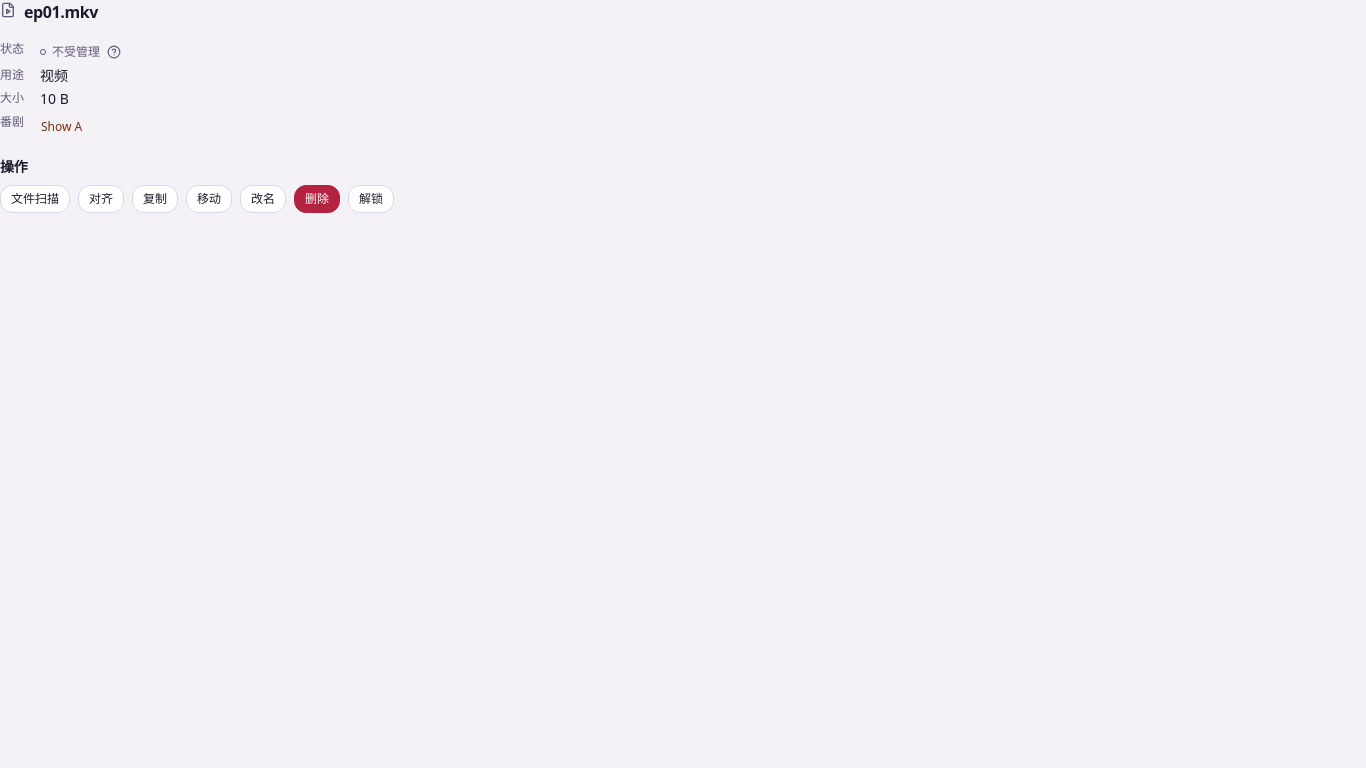
Test: move, rename and copy › shows the choice when the server reports the target as taken after the check
Click the button "移动" at (209, 198), box top-left (186, 184), bottom-right (232, 212)
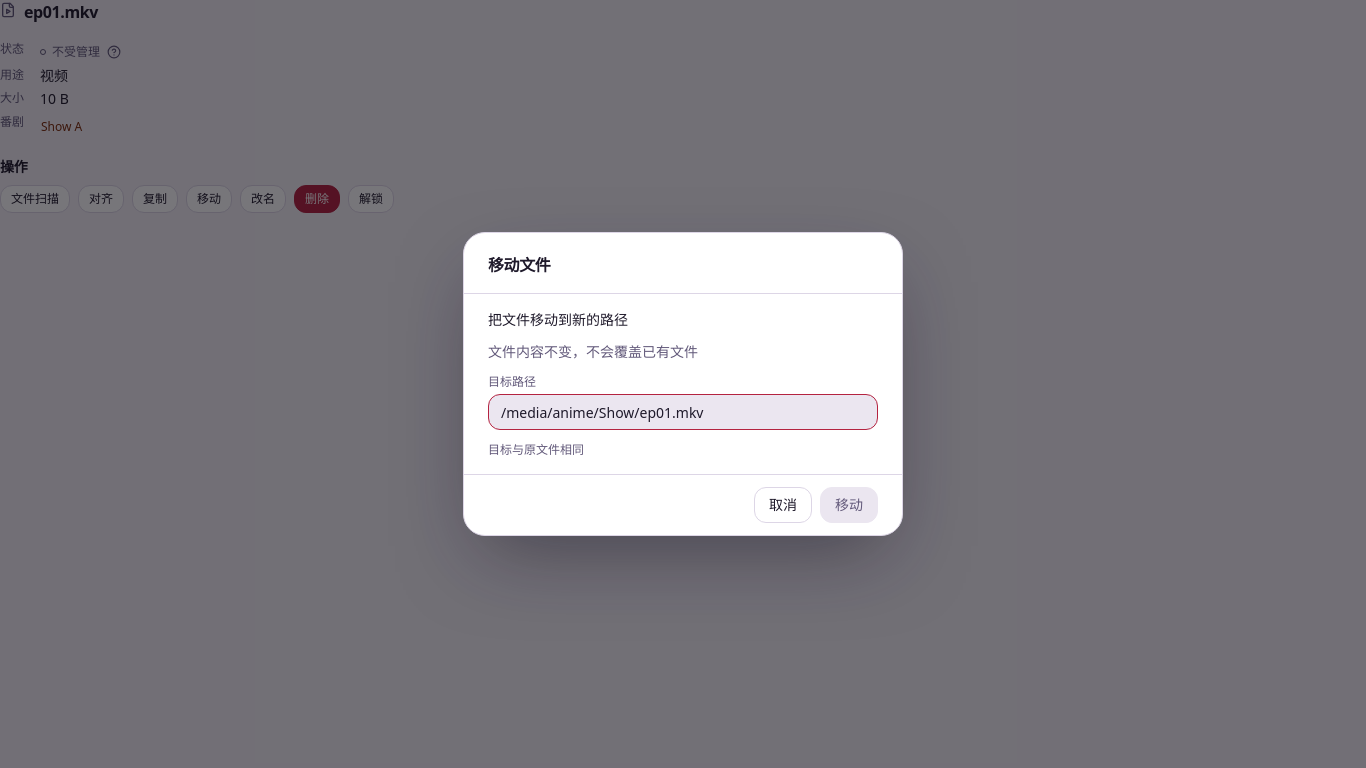
Replace the text in the field labelled "目标路径" with "/media/anime/Show/race.mkv" at (683, 412), box top-left (488, 394), bottom-right (878, 430)
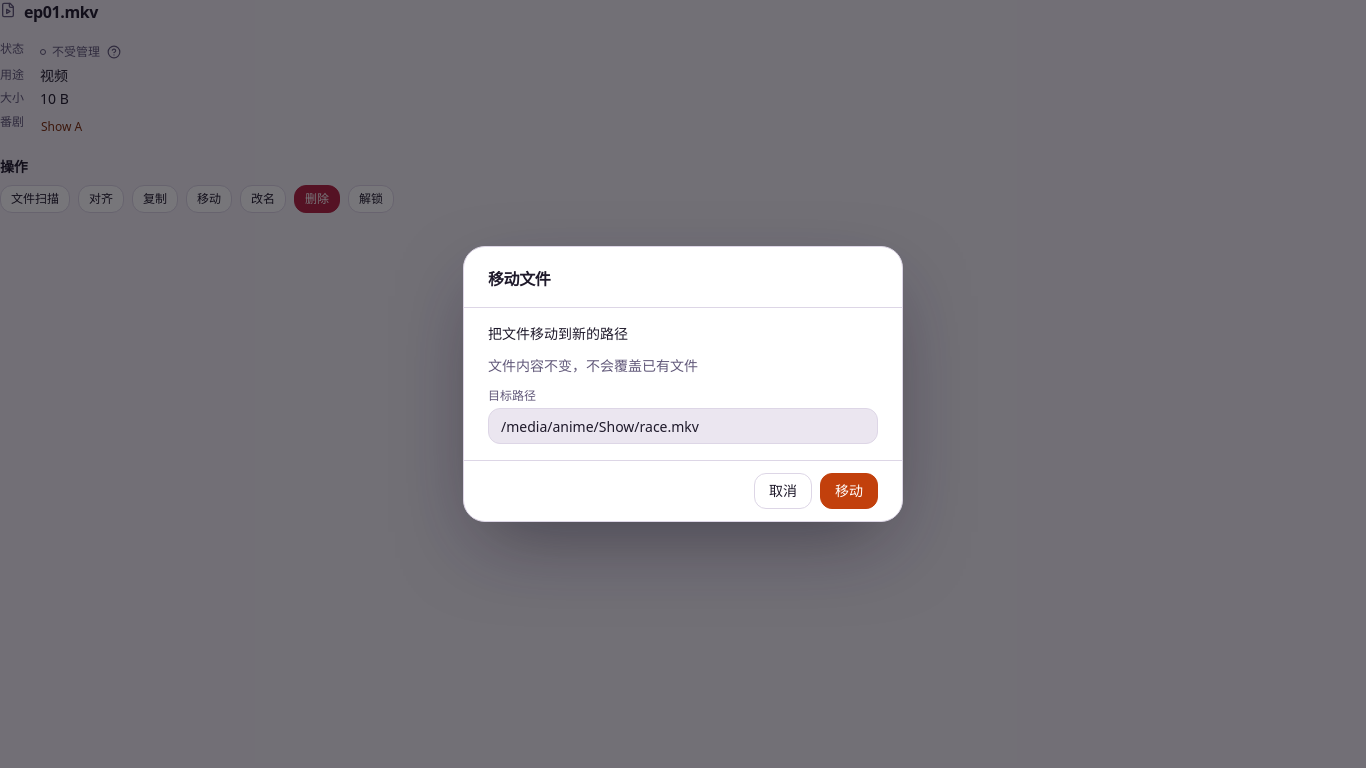
Click the button "移动" at (849, 491), box top-left (820, 473), bottom-right (878, 509)
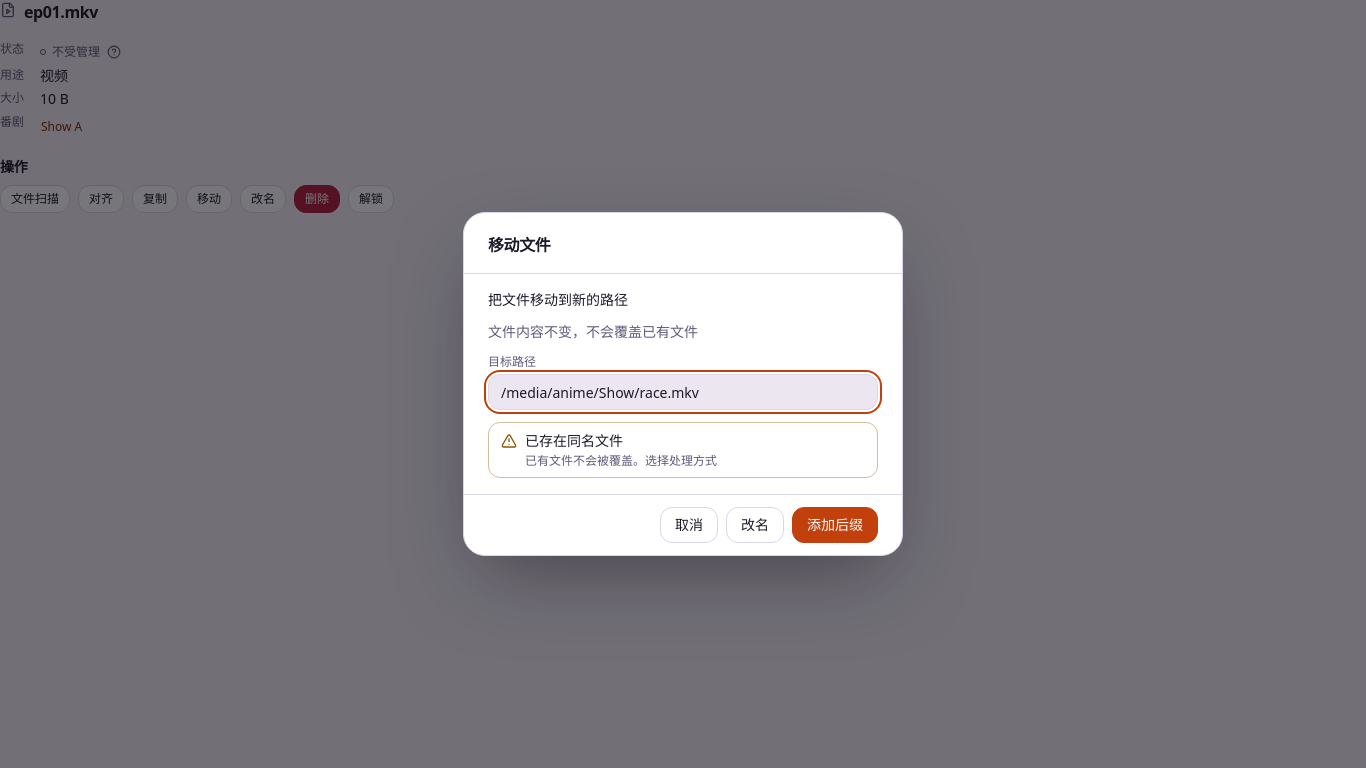
Now the text "已存在同名文件" is shown once, box top-left (525, 431), bottom-right (623, 450)
Now the button "添加后缀" is shown, box top-left (792, 507), bottom-right (878, 543)
